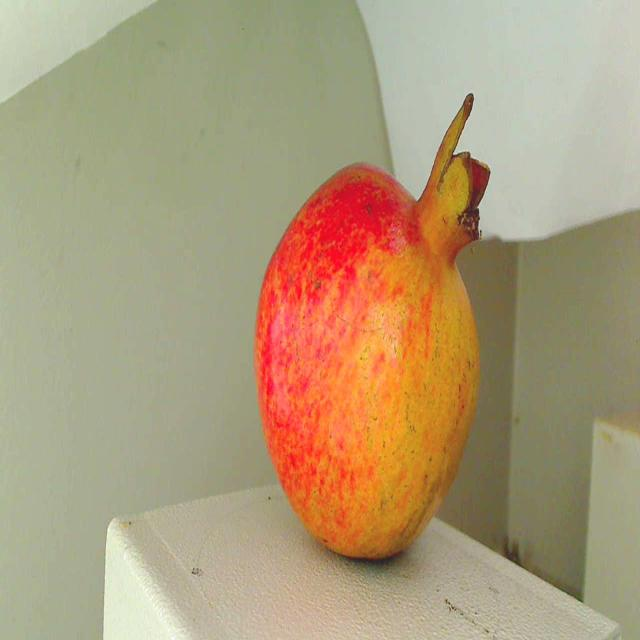pomegranate: (247, 84, 507, 575)
